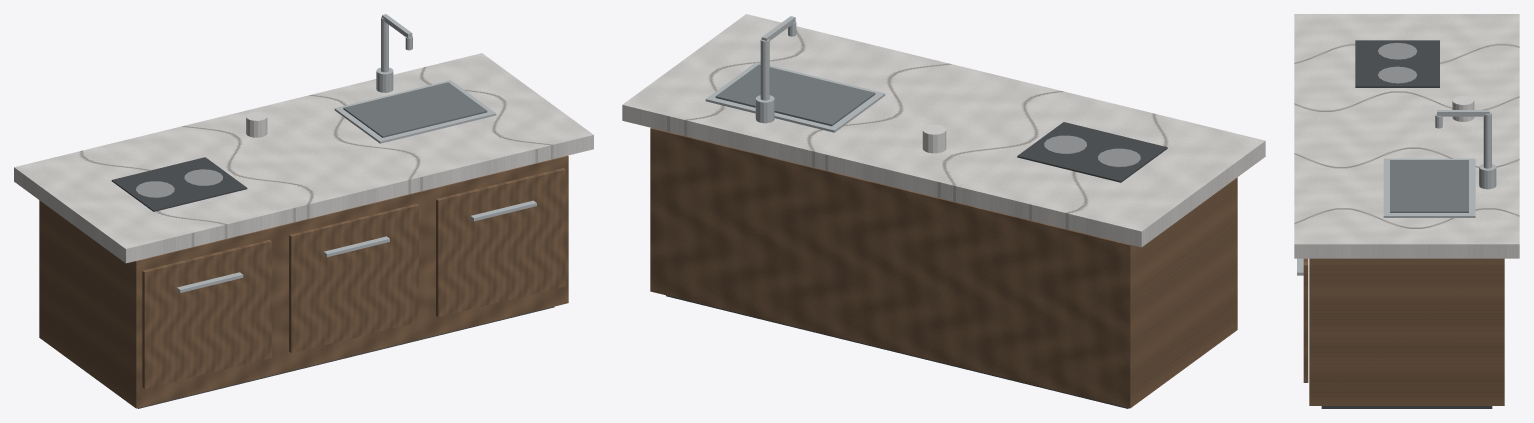
File: nexus-kitchen-island.glb
3 views of the same model, side by side, from view 1: azimuth 30°, elevation 25°; view 2: azimuth 150°, elevation 25°; view 3: azimuth 270°, elevation 25° (orthographic). The views are drawn at different scales.
Visible parts, largest first — view 1: stone_countertop, island_cabinet, cabinet_door_-0.91, cabinet_door_0.91, cabinet_door_0, sink_interior, cooktop_glass, sink_rim, toe_kick, burner_-0.95, ceramic_cup, burner_-0.65; view 2: island_cabinet, stone_countertop, sink_interior, cooktop_glass, sink_rim, toe_kick, ceramic_cup, burner_-0.95, burner_-0.65, faucet_riser; view 3: stone_countertop, island_cabinet, sink_interior, cooktop_glass, sink_rim, cabinet_door_0.91, burner_-0.65, burner_-0.95, toe_kick, faucet_riser, ceramic_cup, faucet_base (+1 smaller).
Boxes of the visible parts, left/top/right/bottom form: stone_countertop: left=14, top=53, right=593, bottom=263; island_cabinet: left=39, top=155, right=568, bottom=408; cabinet_door_-0.91: left=142, top=239, right=271, bottom=388; cabinet_door_0.91: left=436, top=168, right=565, bottom=317; cabinet_door_0: left=289, top=204, right=418, bottom=352; sink_interior: left=343, top=82, right=487, bottom=137; cooktop_glass: left=111, top=157, right=247, bottom=211; sink_rim: left=334, top=80, right=496, bottom=143; toe_kick: left=138, top=306, right=554, bottom=408; burner_-0.95: left=136, top=181, right=174, bottom=197; ceramic_cup: left=246, top=112, right=267, bottom=137; burner_-0.65: left=184, top=169, right=222, bottom=185; island_cabinet: left=650, top=128, right=1237, bottom=408; stone_countertop: left=622, top=14, right=1265, bottom=247; sink_interior: left=715, top=64, right=875, bottom=126; cooktop_glass: left=1017, top=122, right=1167, bottom=182; sink_rim: left=705, top=62, right=885, bottom=132; toe_kick: left=666, top=295, right=1128, bottom=408; ceramic_cup: left=922, top=124, right=946, bottom=153; burner_-0.95: left=1097, top=148, right=1140, bottom=167; burner_-0.65: left=1044, top=135, right=1086, bottom=153; faucet_riser: left=760, top=38, right=769, bottom=100; stone_countertop: left=1294, top=14, right=1519, bottom=258; island_cabinet: left=1309, top=258, right=1504, bottom=405; sink_interior: left=1390, top=160, right=1468, bottom=212; cooktop_glass: left=1355, top=40, right=1439, bottom=87; sink_rim: left=1383, top=158, right=1475, bottom=217; cabinet_door_0.91: left=1303, top=258, right=1308, bottom=382; burner_-0.65: left=1378, top=66, right=1417, bottom=83; burner_-0.95: left=1378, top=42, right=1417, bottom=59; toe_kick: left=1321, top=406, right=1492, bottom=408; faucet_riser: left=1483, top=112, right=1491, bottom=168; ceramic_cup: left=1452, top=96, right=1474, bottom=121; faucet_base: left=1479, top=164, right=1496, bottom=189.
Size of the model in its own units: 2.9 by 1.5 by 1.2.
Materials: 2 (2 with a texture image).
